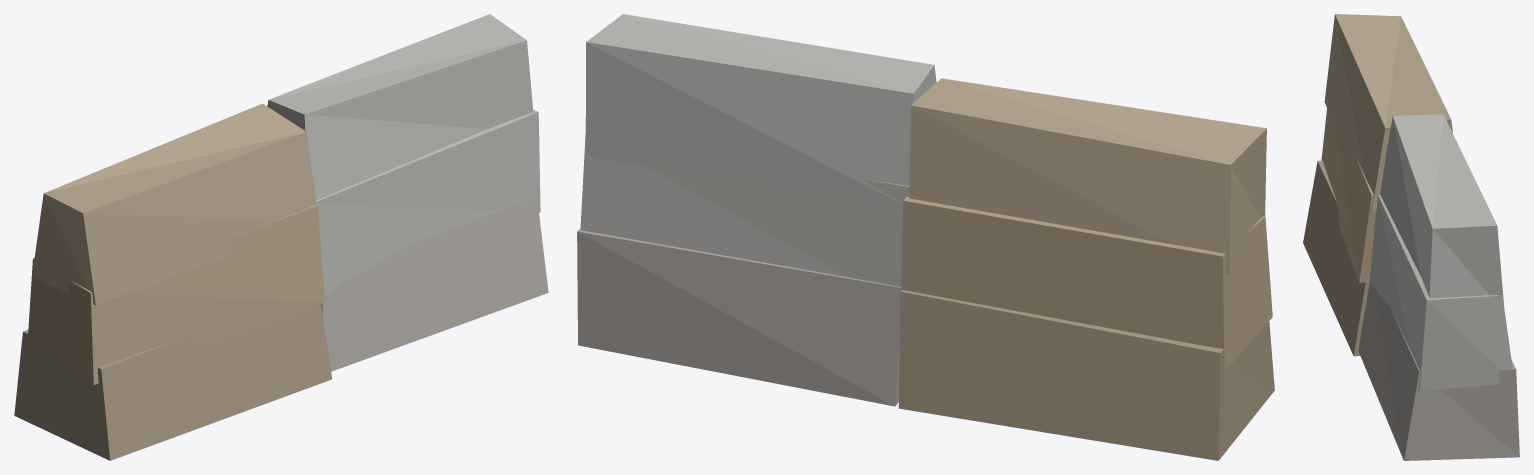
File: farm_-3_-8_mid.glb
3 renders of one model, left to right at view 1: azimuth 30°, elevation 25°; view 2: azimuth 150°, elevation 25°; view 3: azimuth 270°, elevation 25°, orthographic. The views are drawn at different scales.
Parts seen in each view (by area): view 1: geometry_0; view 2: geometry_0; view 3: geometry_0.
Part boxes in pixels (x1,y1,x2,y2): geometry_0: (14,14,548,460); geometry_0: (577,14,1274,460); geometry_0: (1303,14,1519,460).
Bounding box in the file's own units: 3.21 × 1.51 × 1.23.
